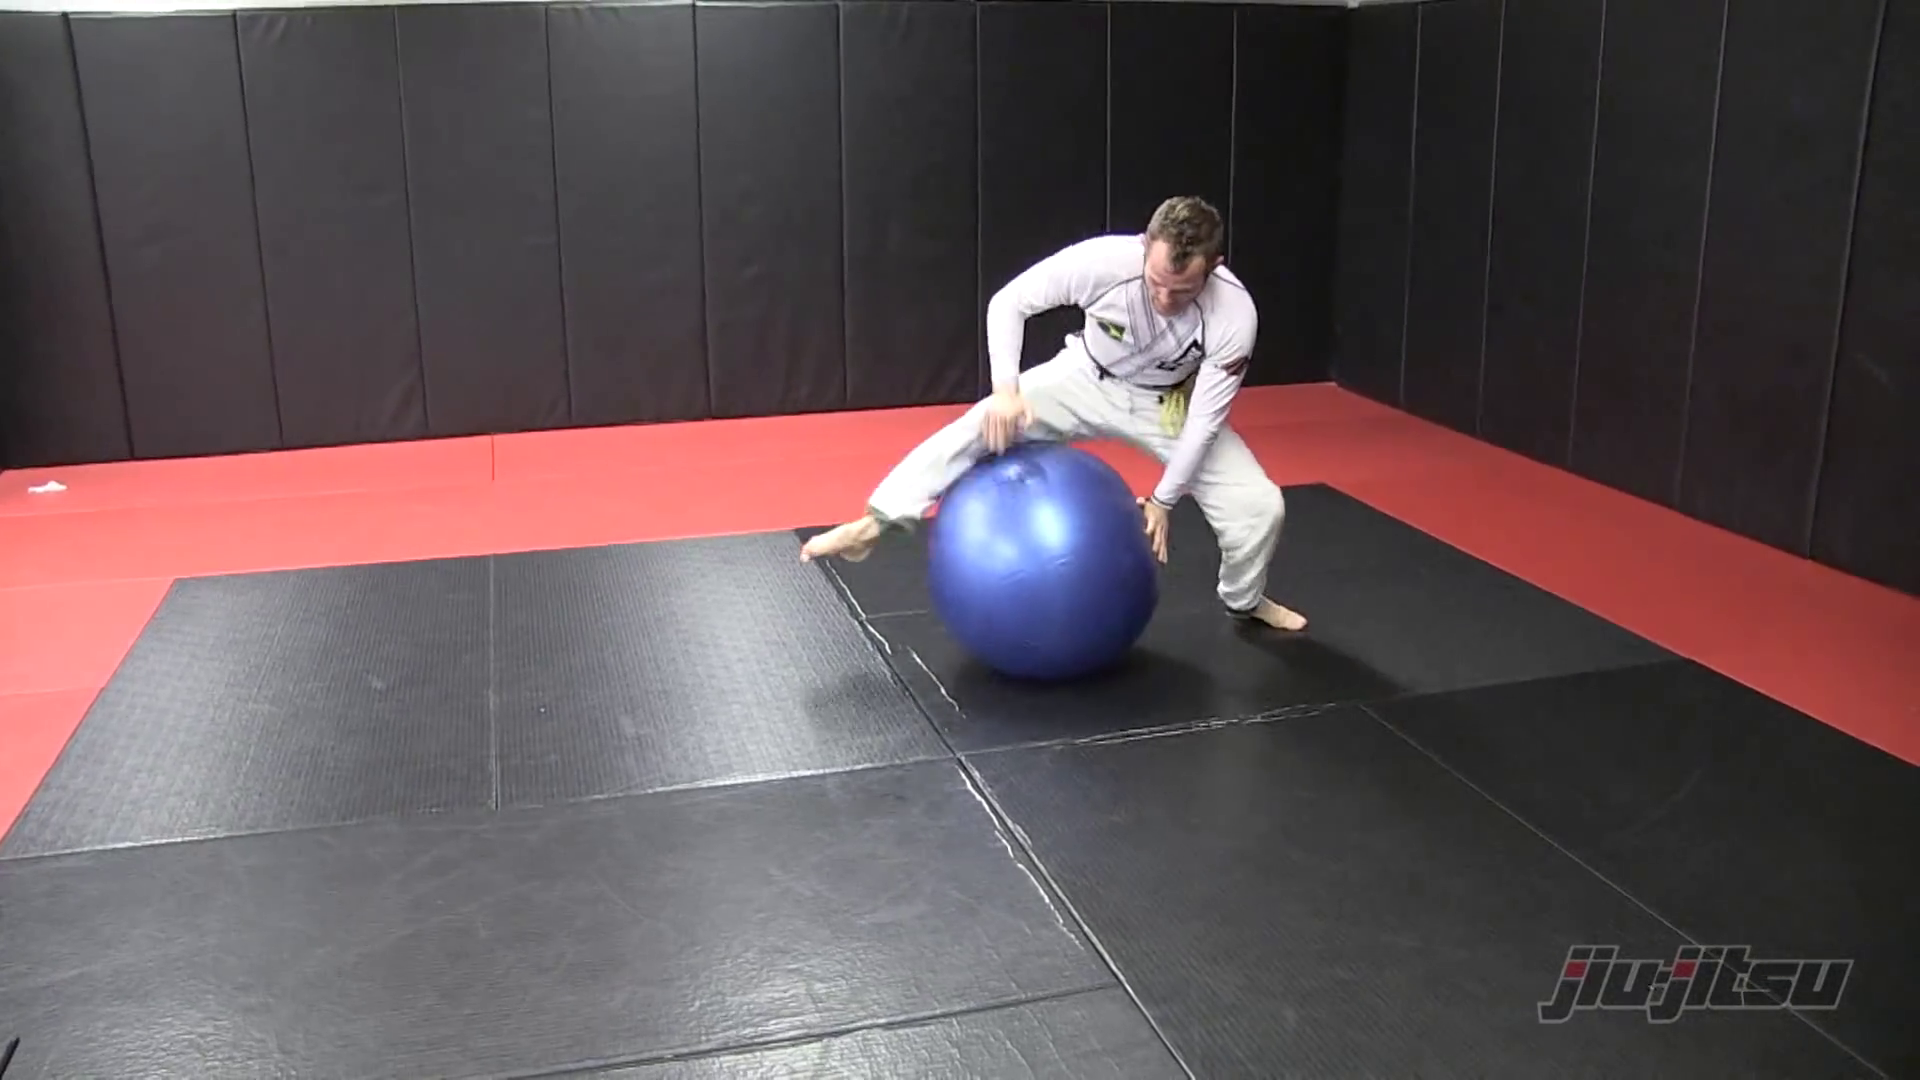yogaball: (916, 435, 1174, 695)
